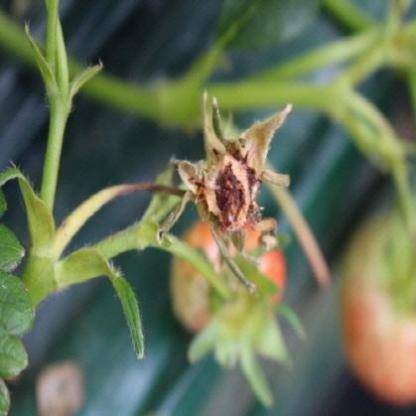Strawberry_Gray_Mold: (146, 90, 294, 260)
